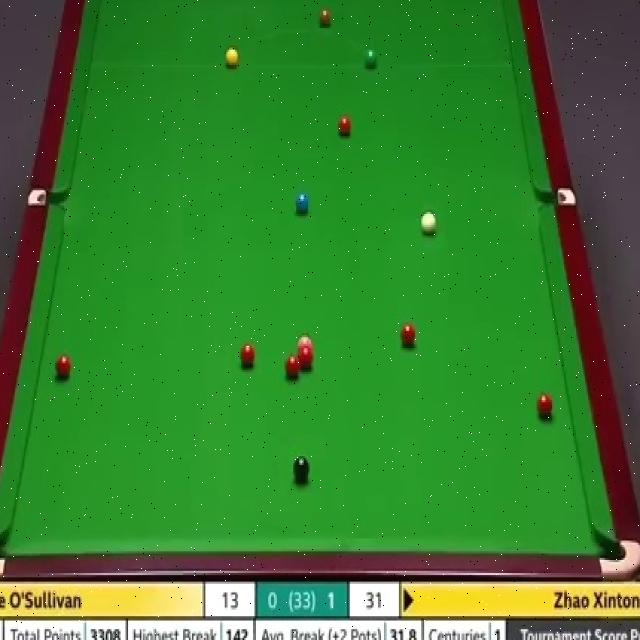black-ball: (293, 454, 311, 482)
blue-ball: (294, 190, 309, 214)
brown-ball: (318, 7, 332, 29)
green-ball: (363, 47, 377, 69)
pink-ball: (296, 335, 314, 351)
red-ball: (55, 352, 72, 381), (336, 114, 354, 138), (536, 394, 554, 418), (239, 344, 255, 368), (400, 323, 415, 348), (297, 348, 314, 370), (285, 356, 301, 378)
white-ball: (418, 206, 438, 238)
yellow-ball: (225, 45, 239, 68)
